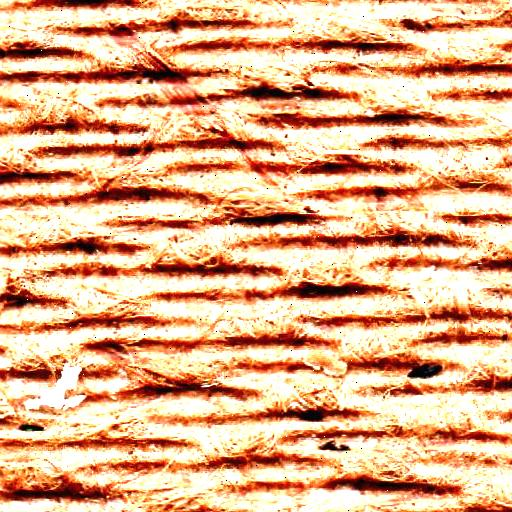egg: (407, 358, 447, 383), (319, 436, 350, 454), (18, 421, 48, 436)
